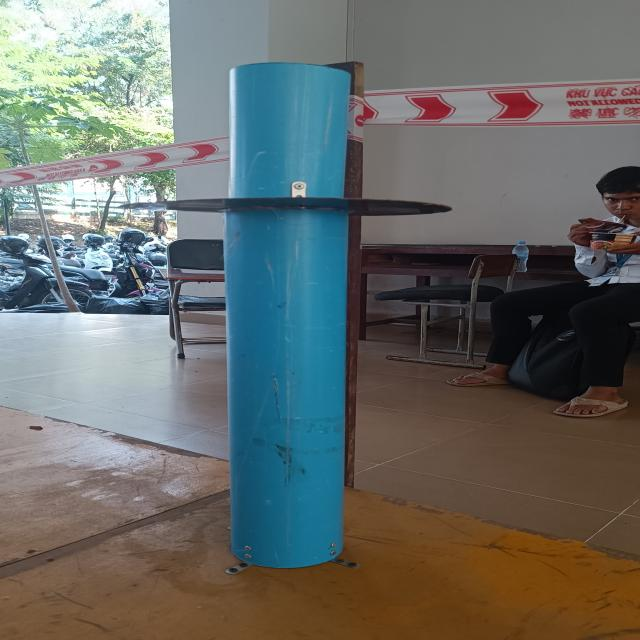pole: (126, 55, 454, 352)
